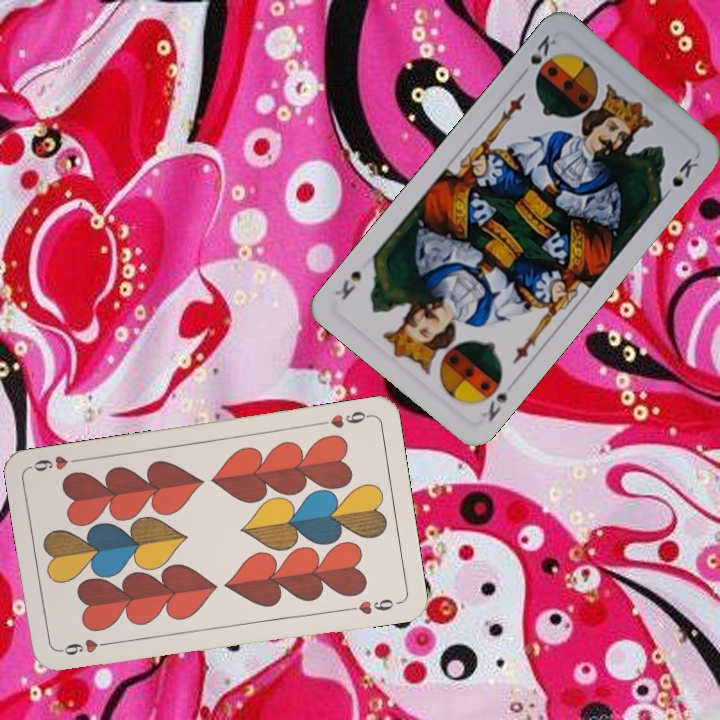H9: (315, 407, 374, 431), (56, 634, 115, 658)
SK: (477, 375, 517, 425), (526, 30, 559, 68)
